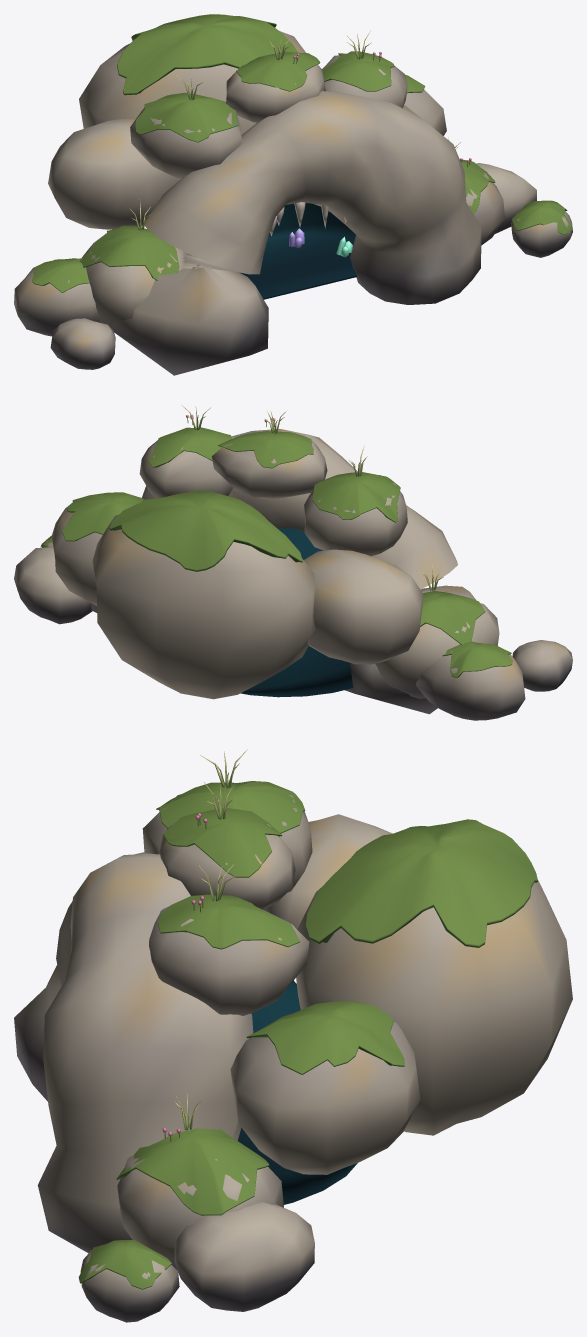
Rendered from rg-tidepool-grottoMouth.glb.
The picture shows the model from 3 angles, top to bottom: view 1: azimuth 30°, elevation 25°; view 2: azimuth 150°, elevation 25°; view 3: azimuth 270°, elevation 25°; orthographic projection. The views are drawn at different scales.
Parts seen in each view (by area): view 1: rg-tidepool-grottoMouth_rock, rg-tidepool-grottoMouth_hot, rg-tidepool-grottoMouth; view 2: rg-tidepool-grottoMouth_rock, rg-tidepool-grottoMouth_hot, rg-tidepool-grottoMouth; view 3: rg-tidepool-grottoMouth_rock, rg-tidepool-grottoMouth_hot, rg-tidepool-grottoMouth.
Part boxes in pixels (x1,y1,x2,y2): rg-tidepool-grottoMouth_rock: (14,14,572,375); rg-tidepool-grottoMouth_hot: (240,203,356,299); rg-tidepool-grottoMouth: (129,30,460,235); rg-tidepool-grottoMouth_rock: (14,414,572,720); rg-tidepool-grottoMouth_hot: (241,528,353,697); rg-tidepool-grottoMouth: (181,404,443,590); rg-tidepool-grottoMouth_rock: (14,781,572,1322); rg-tidepool-grottoMouth_hot: (238,980,357,1204); rg-tidepool-grottoMouth: (174,749,247,1130).
Bounding box in the file's own units: 15.69 × 8.36 × 10.01.
